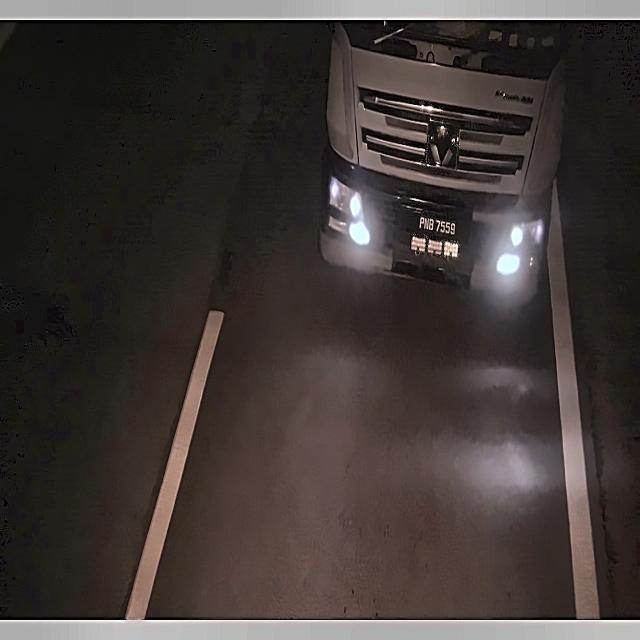car: (409, 198, 464, 251)
